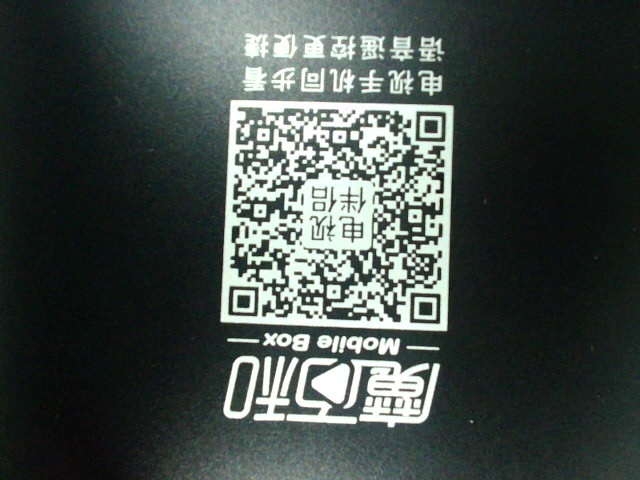AZ_MobileBox: (214, 24, 469, 430)
